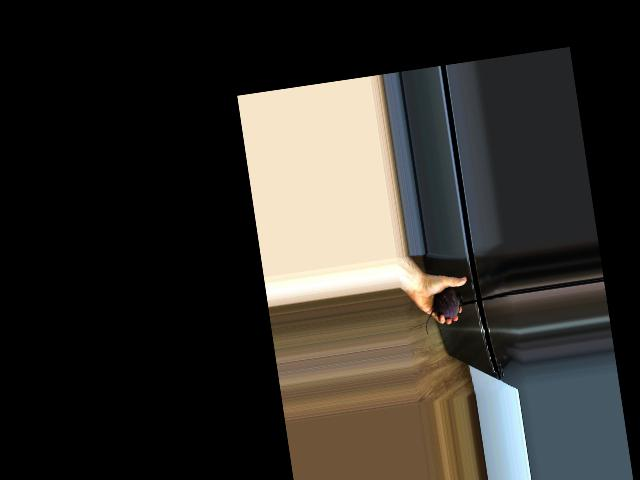beet: (420, 286, 467, 335)
